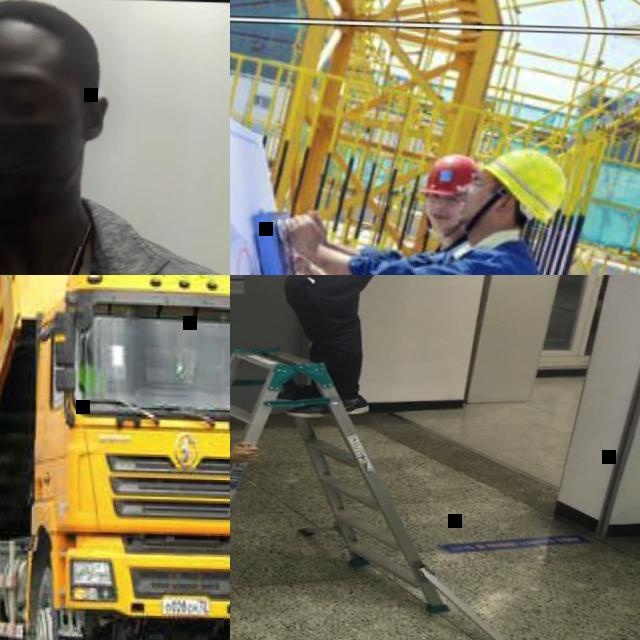Hardhat: (481, 143, 569, 223), (419, 153, 479, 191)
NO-Hardhat: (0, 0, 100, 64)
NO-Mask: (0, 114, 88, 227), (458, 184, 484, 218), (425, 205, 458, 227)
NO-Safety Vest: (0, 233, 230, 275), (441, 242, 547, 275)
Person: (0, 0, 230, 275), (284, 135, 568, 275), (289, 150, 478, 275), (230, 275, 387, 415), (77, 343, 110, 396)
Safety Vest: (76, 361, 109, 396)
machinery: (0, 275, 230, 640)
